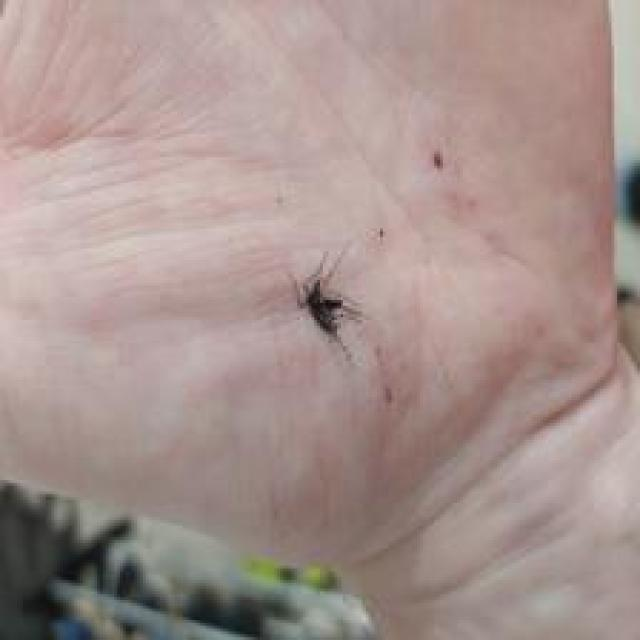Aedes albopictus: (293, 250, 367, 364)
